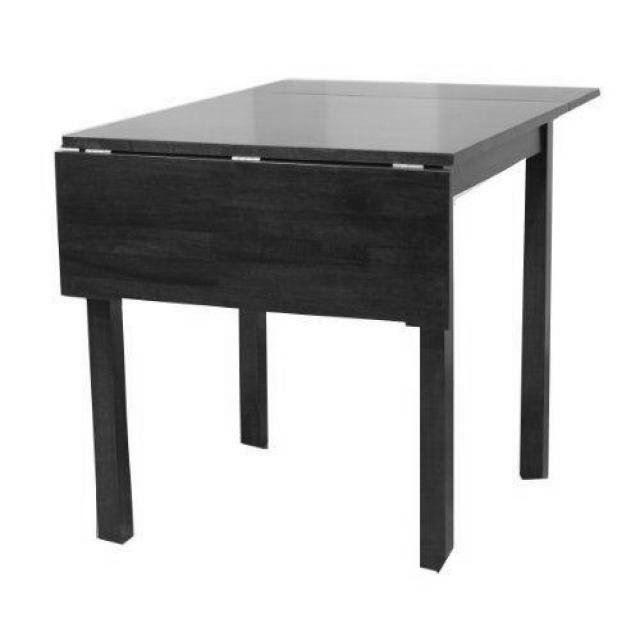table: (56, 78, 598, 570)
